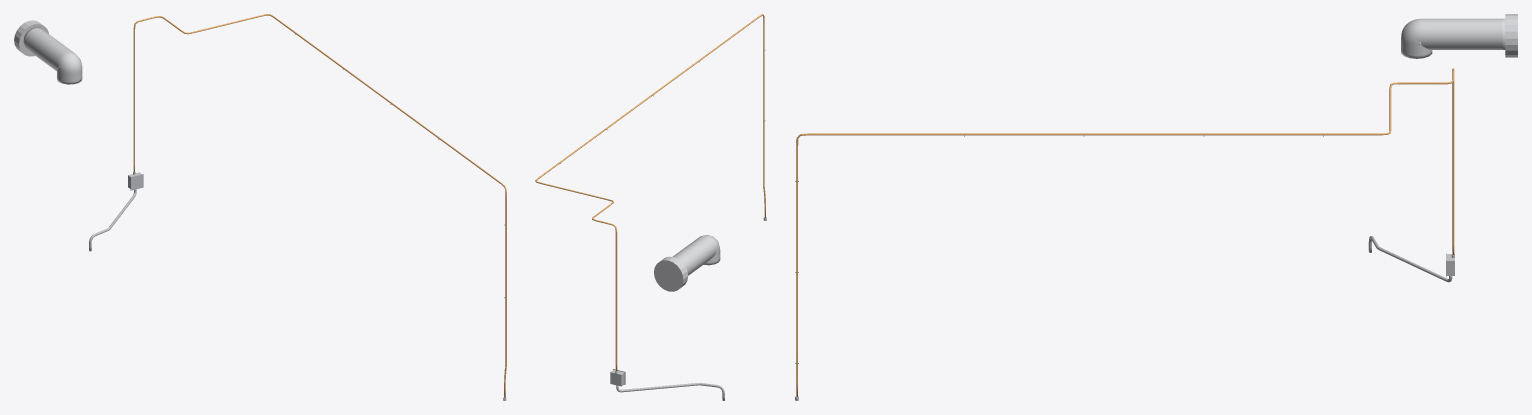
File: pipes_hvac__water_heater-garage_hybrid.glb
The picture shows the model from 3 angles, left to right: view 1: azimuth 30°, elevation 25°; view 2: azimuth 150°, elevation 25°; view 3: azimuth 270°, elevation 25°; orthographic projection. The views are drawn at different scales.
Parts seen in each view (by area): view 1: duct_wh_hybrid_exhaust, cable_wh_branch_romex, term_wh_hybrid_exhaust; view 2: cable_wh_branch_romex, duct_wh_hybrid_exhaust, term_wh_hybrid_exhaust, whip_wh_flex, box_wh_junction; view 3: duct_wh_hybrid_exhaust, cable_wh_branch_romex.
Boxes of the visible parts, box(x1,y1,x2,y2) form: duct_wh_hybrid_exhaust: box(23, 27, 82, 84); cable_wh_branch_romex: box(133, 14, 506, 397); term_wh_hybrid_exhaust: box(14, 20, 48, 56); cable_wh_branch_romex: box(535, 14, 765, 371); duct_wh_hybrid_exhaust: box(672, 235, 720, 275); term_wh_hybrid_exhaust: box(654, 256, 687, 291); whip_wh_flex: box(616, 383, 724, 400); box_wh_junction: box(610, 370, 624, 386); duct_wh_hybrid_exhaust: box(1401, 18, 1505, 58); cable_wh_branch_romex: box(796, 68, 1454, 396).
Bounding box in the file's own units: 1.9 × 1.89 × 4.6.
